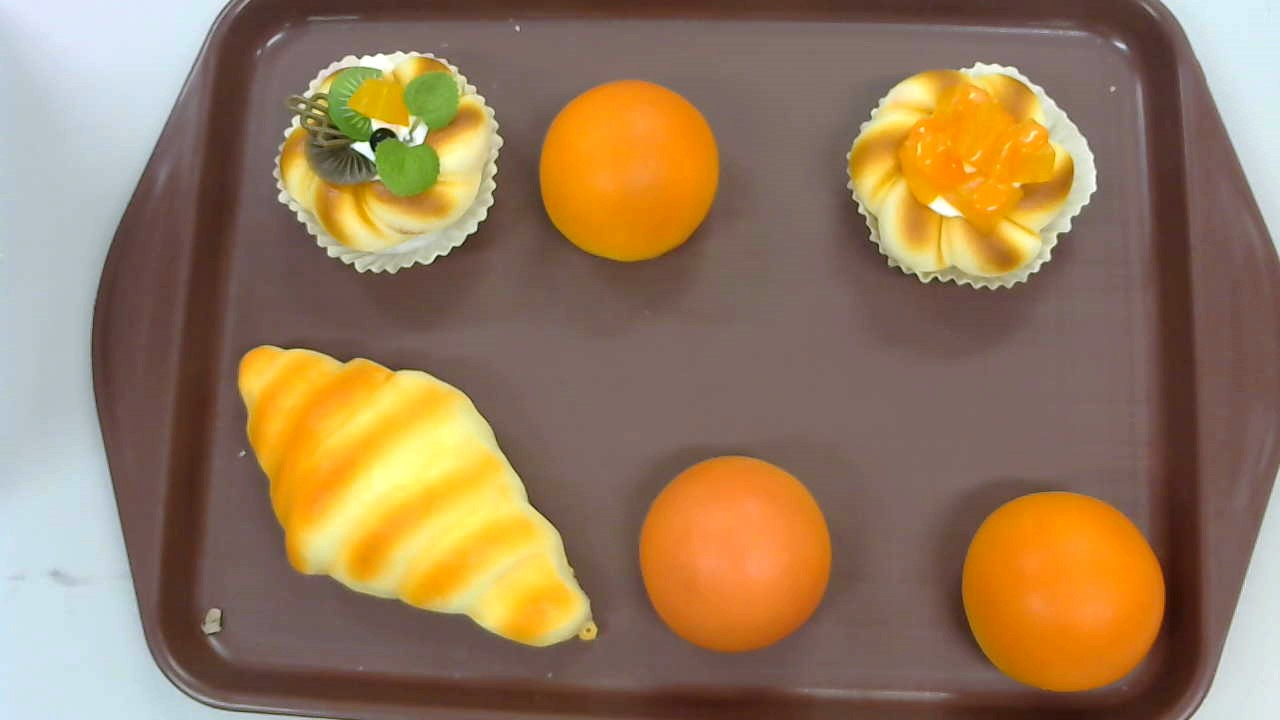bun: (960, 491, 1165, 691), (638, 456, 832, 653), (538, 78, 721, 261)
croissant: (237, 344, 597, 646)
fruit tart: (273, 50, 504, 276)
mango tart: (844, 60, 1097, 290)
